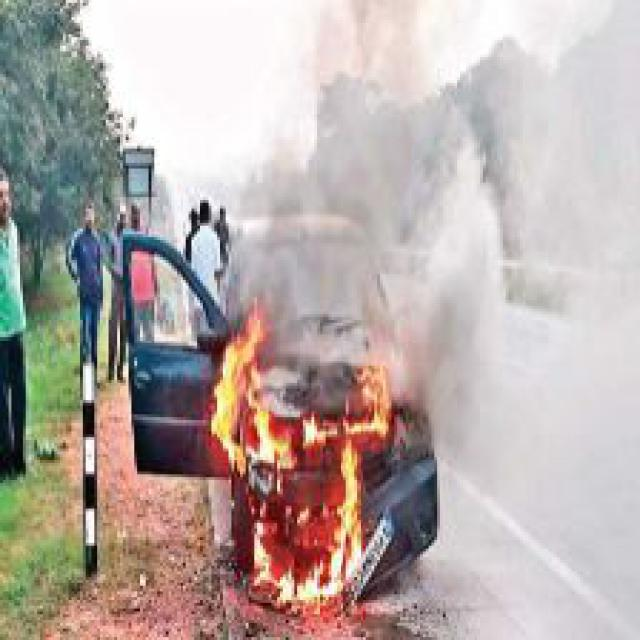fire: (208, 300, 423, 614)
